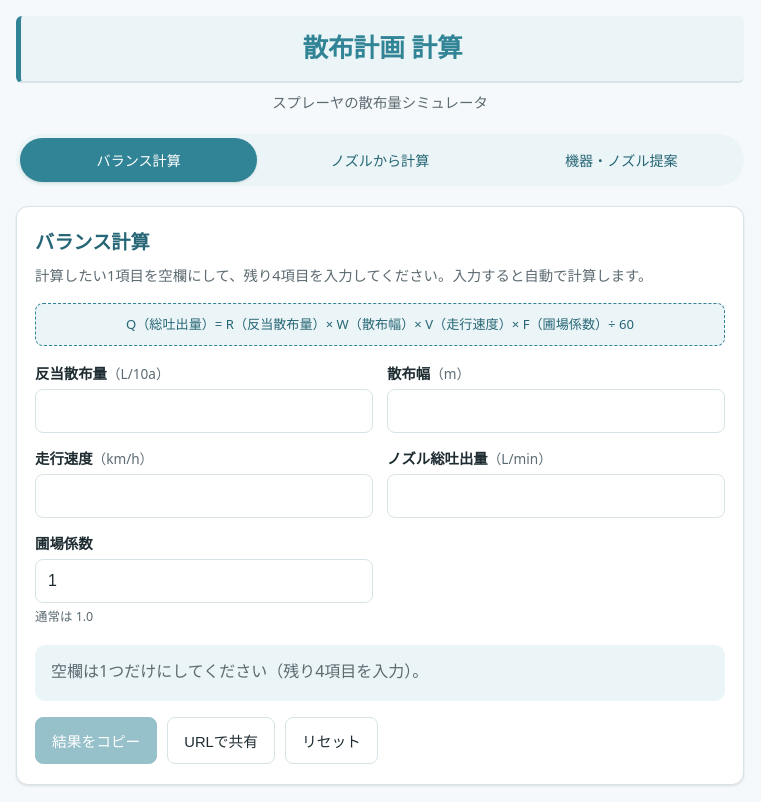
App smoke › live-solves Q from R/W/V/F in the balance tab
Type "100" into the number field labelled "反当散布量（L/10a）".
click(204, 411); type("100")  # box [35,389,373,433]
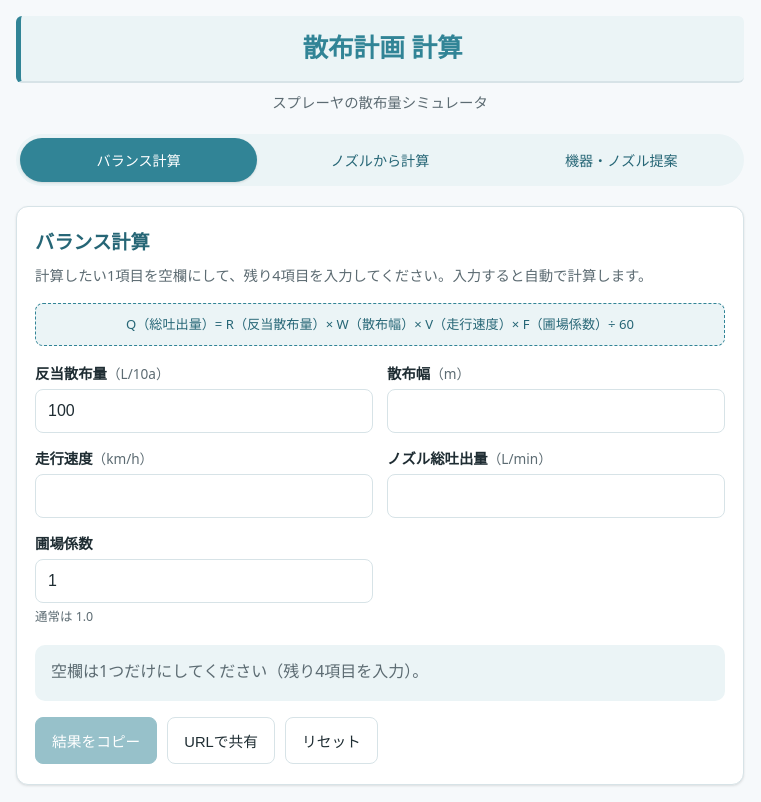
Type "10" into the number field labelled "散布幅（m）".
click(556, 411); type("10")  # box [387,389,725,433]
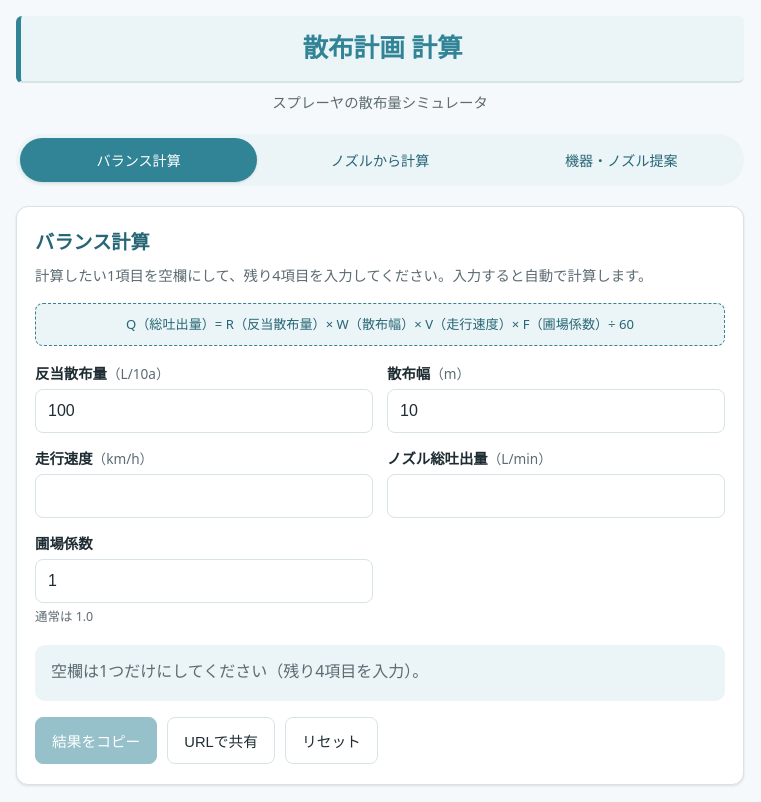
Type "3" into the number field labelled "走行速度（km/h）".
click(204, 496); type("3")  # box [35,474,373,518]
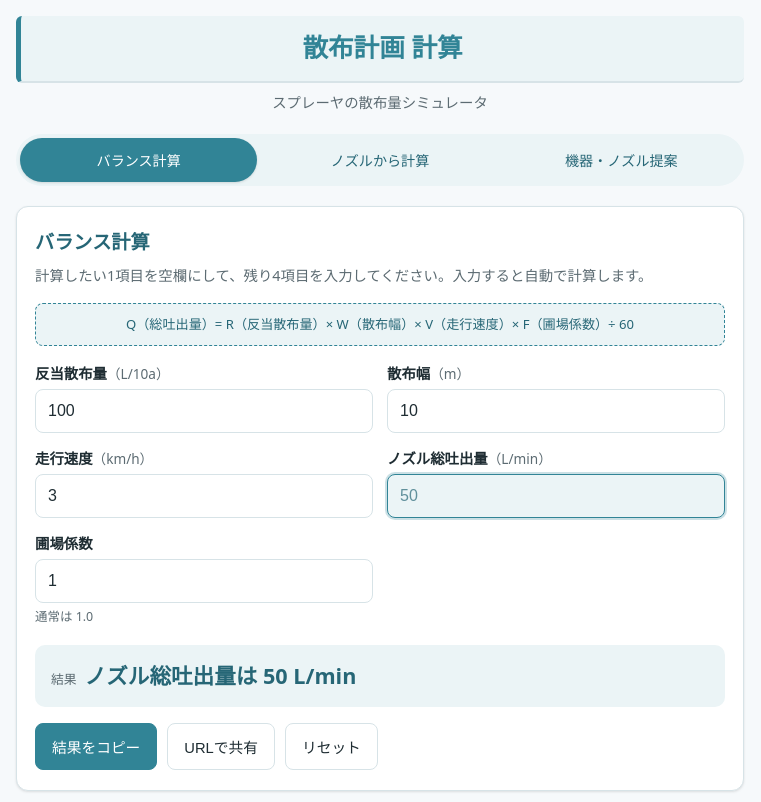
Now the text "ノズル総吐出量は 50 L/min" is shown, box [85,659,356,693]
